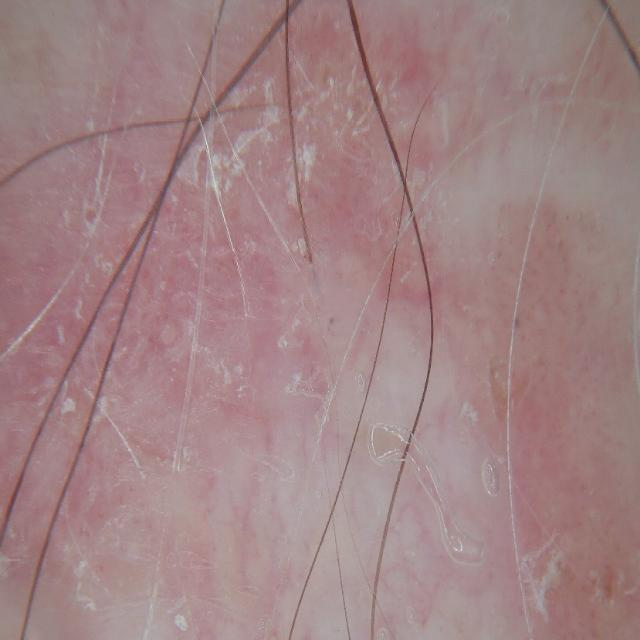Melanoma: (0, 39, 592, 494)
